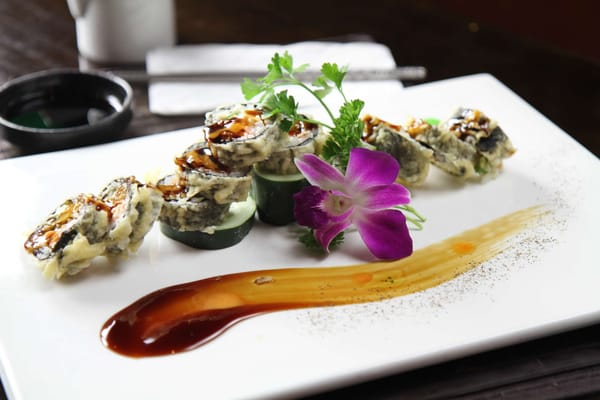pizza: (67, 0, 178, 72)
soup: (23, 174, 164, 281)
sushi: (0, 68, 136, 156)
